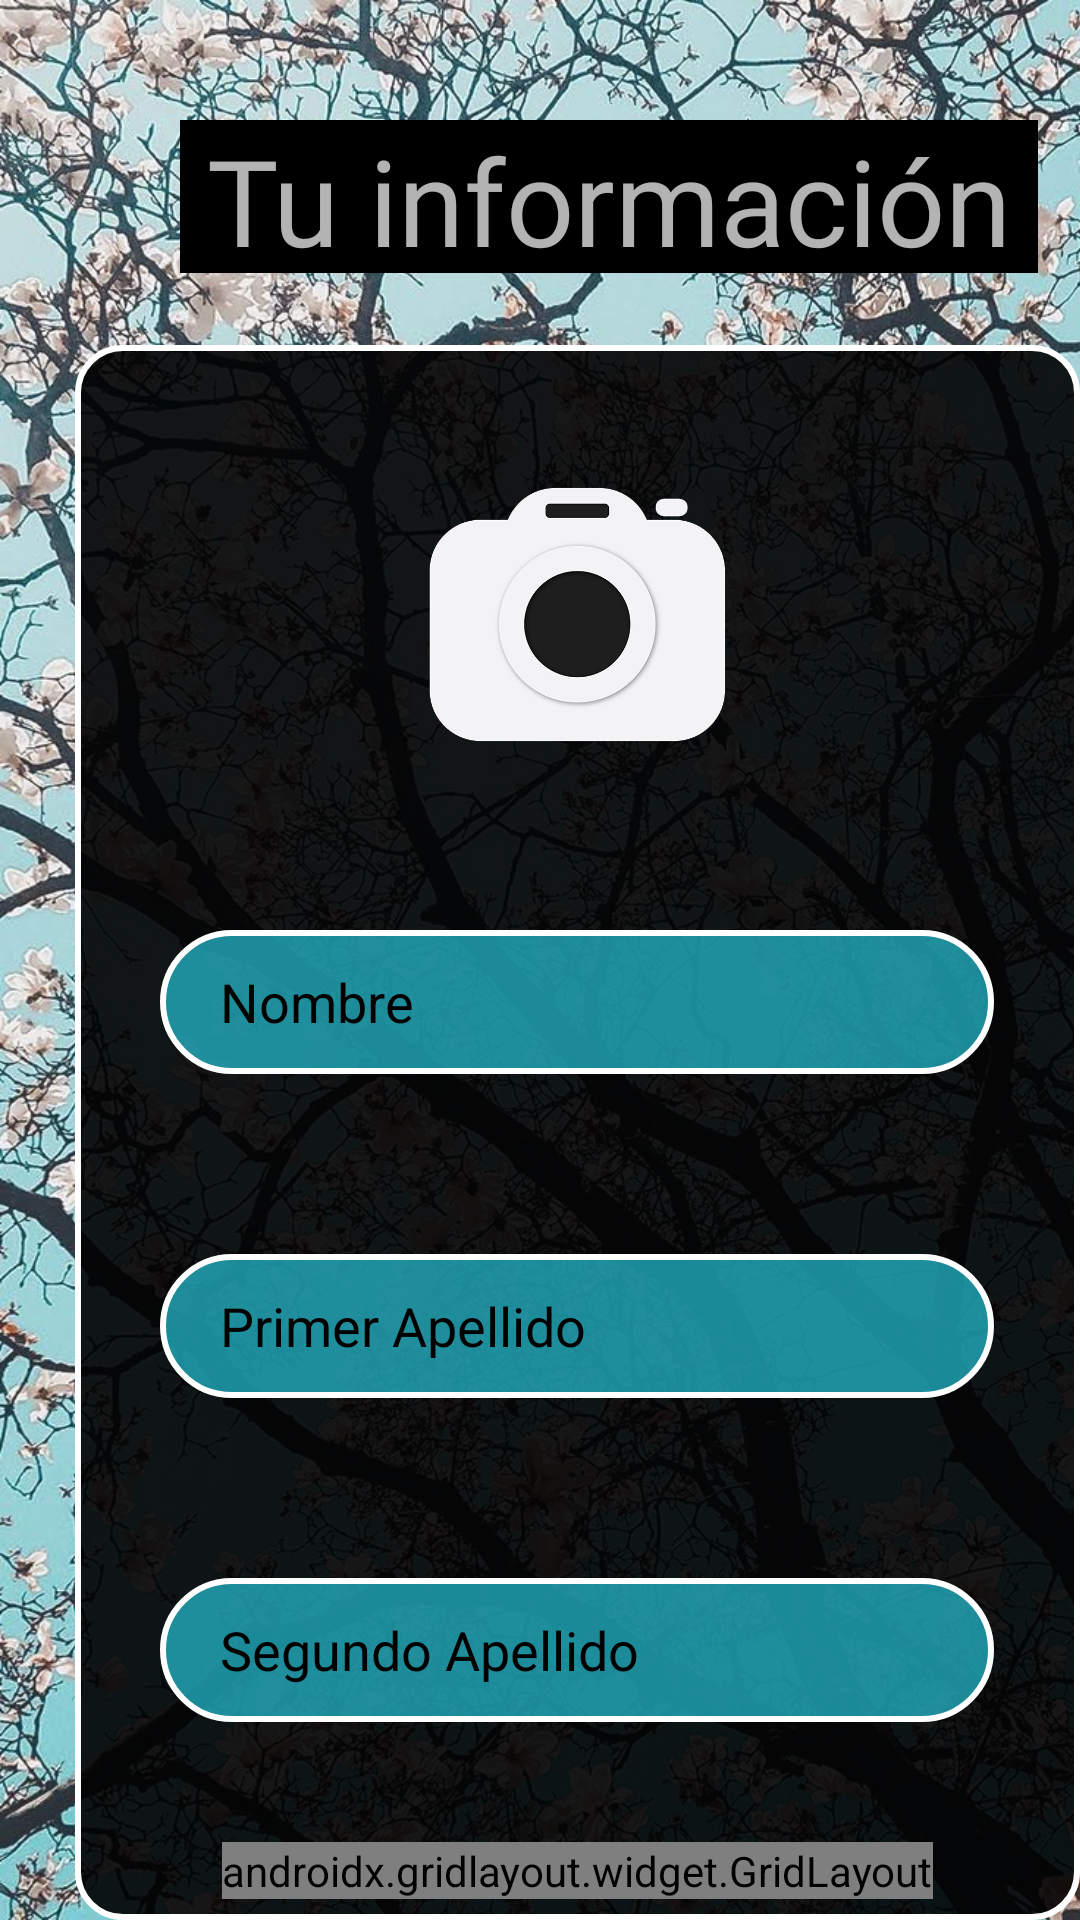

Screen size 1080w x 1920h. Icon name, then its center in pixels as [x,y]:
camera: [577,614]
